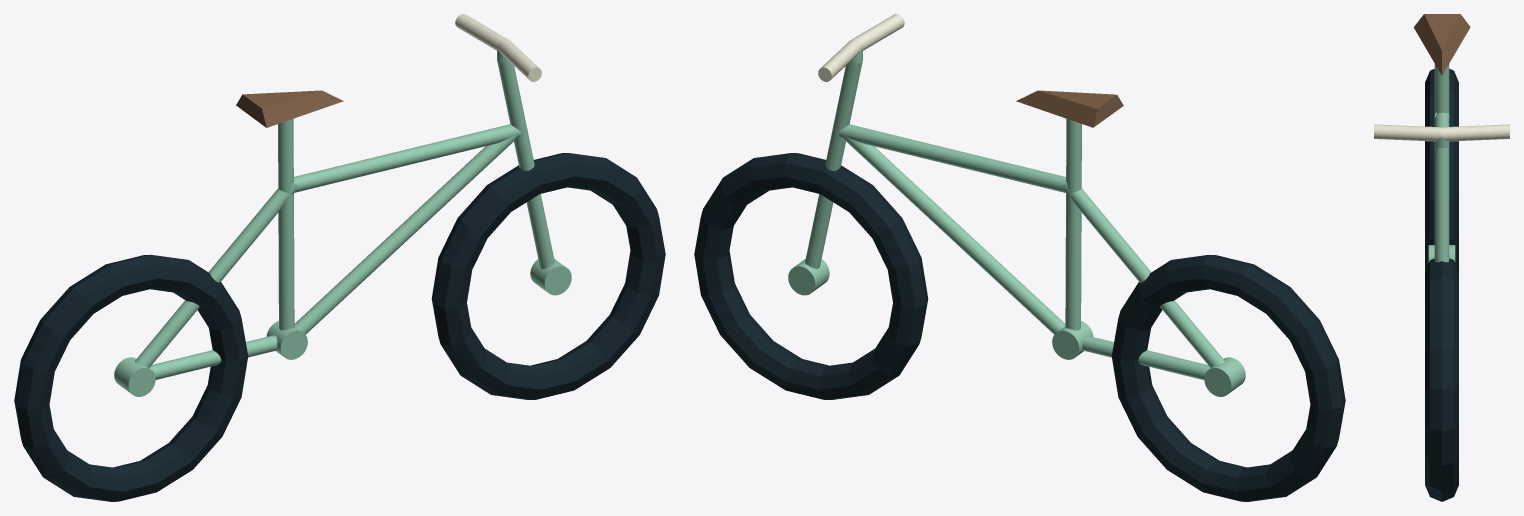
File: VeloFinal.glb
The picture shows the model from 3 angles, left to right: view 1: azimuth 30°, elevation 25°; view 2: azimuth 150°, elevation 25°; view 3: azimuth 270°, elevation 25°; orthographic projection. The views are drawn at different scales.
Parts seen in each view (by area): view 1: Torus, Torus.001, Cylinder.005, Cylinder.001, Cylinder.002, Cylinder.004, Cylinder, Cone, Cylinder.006, Cylinder.003, Cylinder.009, Cylinder.008 (+1 smaller); view 2: Torus, Torus.001, Cylinder.005, Cylinder.001, Cylinder.002, Cylinder.004, Cylinder, Cone, Cylinder.006, Cylinder.003, Cylinder.009, Cylinder.008 (+1 smaller); view 3: Torus, Torus.001, Cone, Cylinder.006, Cylinder, Cylinder.002, Cylinder.007, Cylinder.001.
Part boxes in pixels (left/top/right/bottom): Torus: left=431, top=153, right=665, bottom=399; Torus.001: left=14, top=254, right=248, bottom=501; Cylinder.005: left=294, top=129, right=518, bottom=334; Cylinder.001: left=294, top=124, right=520, bottom=192; Cylinder.002: left=278, top=119, right=294, bottom=330; Cylinder.004: left=134, top=182, right=297, bottom=367; Cylinder: left=497, top=50, right=554, bottom=268; Cone: left=236, top=90, right=343, bottom=127; Cylinder.006: left=455, top=14, right=541, bottom=81; Cylinder.003: left=149, top=335, right=277, bottom=379; Cylinder.009: left=114, top=357, right=155, bottom=396; Cylinder.008: left=530, top=259, right=571, bottom=295; Torus: left=694, top=153, right=928, bottom=399; Torus.001: left=1111, top=255, right=1345, bottom=501; Cylinder.005: left=843, top=136, right=1065, bottom=334; Cylinder.001: left=839, top=124, right=1065, bottom=192; Cylinder.002: left=1065, top=118, right=1081, bottom=330; Cylinder.004: left=1062, top=182, right=1225, bottom=367; Cylinder: left=805, top=50, right=862, bottom=268; Cone: left=1016, top=90, right=1123, bottom=127; Cylinder.006: left=818, top=14, right=904, bottom=81; Cylinder.003: left=1082, top=335, right=1210, bottom=379; Cylinder.009: left=1204, top=357, right=1245, bottom=396; Cylinder.008: left=788, top=259, right=829, bottom=295; Torus: left=1425, top=258, right=1458, bottom=501; Torus.001: left=1425, top=69, right=1458, bottom=271; Cone: left=1413, top=14, right=1470, bottom=75; Cylinder.006: left=1374, top=124, right=1509, bottom=141; Cylinder: left=1434, top=137, right=1449, bottom=262; Cylinder.002: left=1434, top=64, right=1449, bottom=126; Cylinder.007: left=1428, top=245, right=1455, bottom=262; Cylinder.001: left=1435, top=112, right=1449, bottom=127.
Size of the model in its own units: 2.87 by 1.55 by 0.56.
